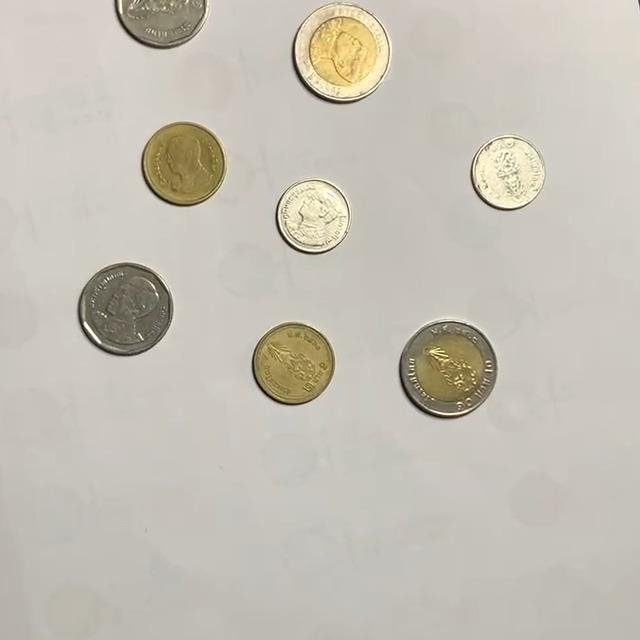1-baht: (470, 134, 547, 210), (276, 178, 352, 255)
10-baht: (293, 2, 393, 102), (399, 320, 499, 418)
2-baht: (141, 121, 226, 206), (252, 321, 336, 405)
5-baht: (79, 262, 175, 356), (114, 0, 210, 48)
